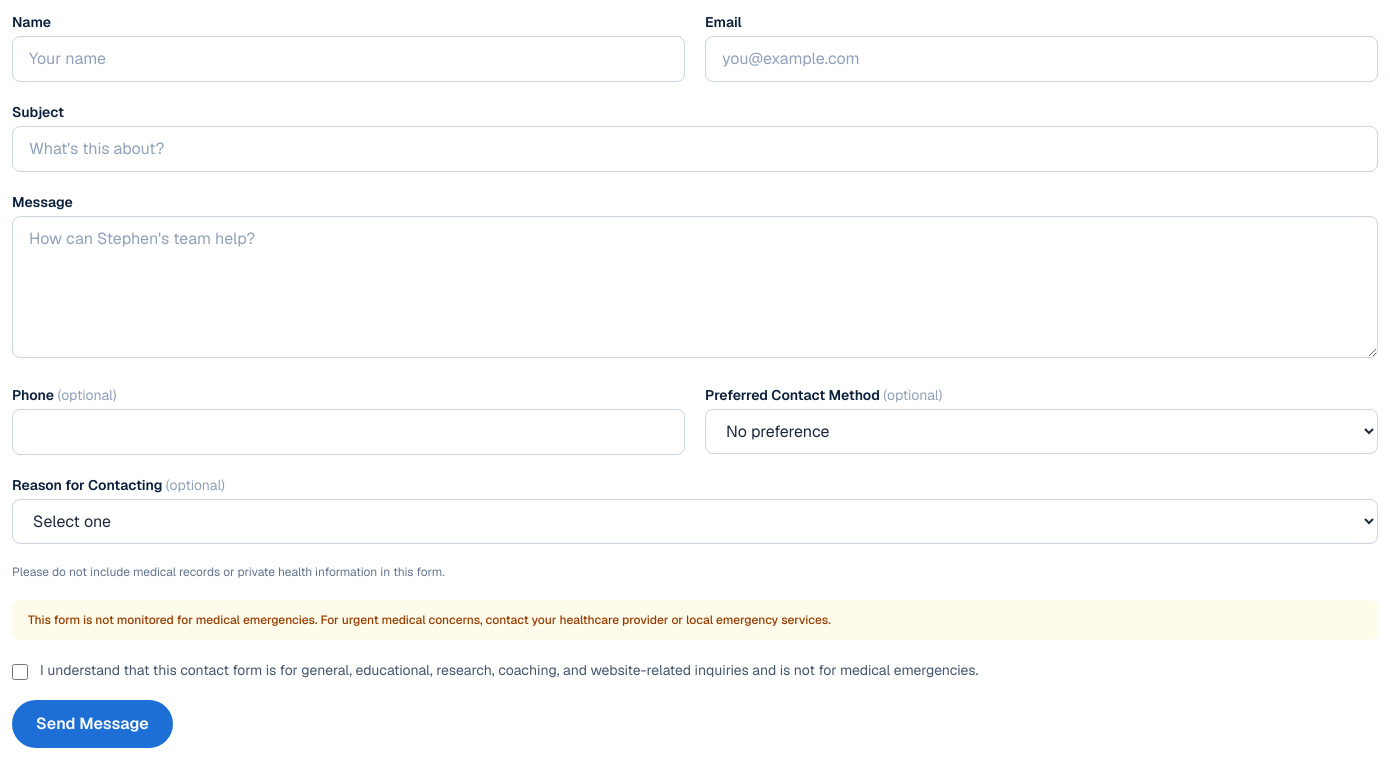
ContactForm › shows an error message and preserves typed data when submission fails
Type "Jane Visitor" into the field labelled "Name".
click(348, 59); type("Jane Visitor")  # box [12,36,685,82]
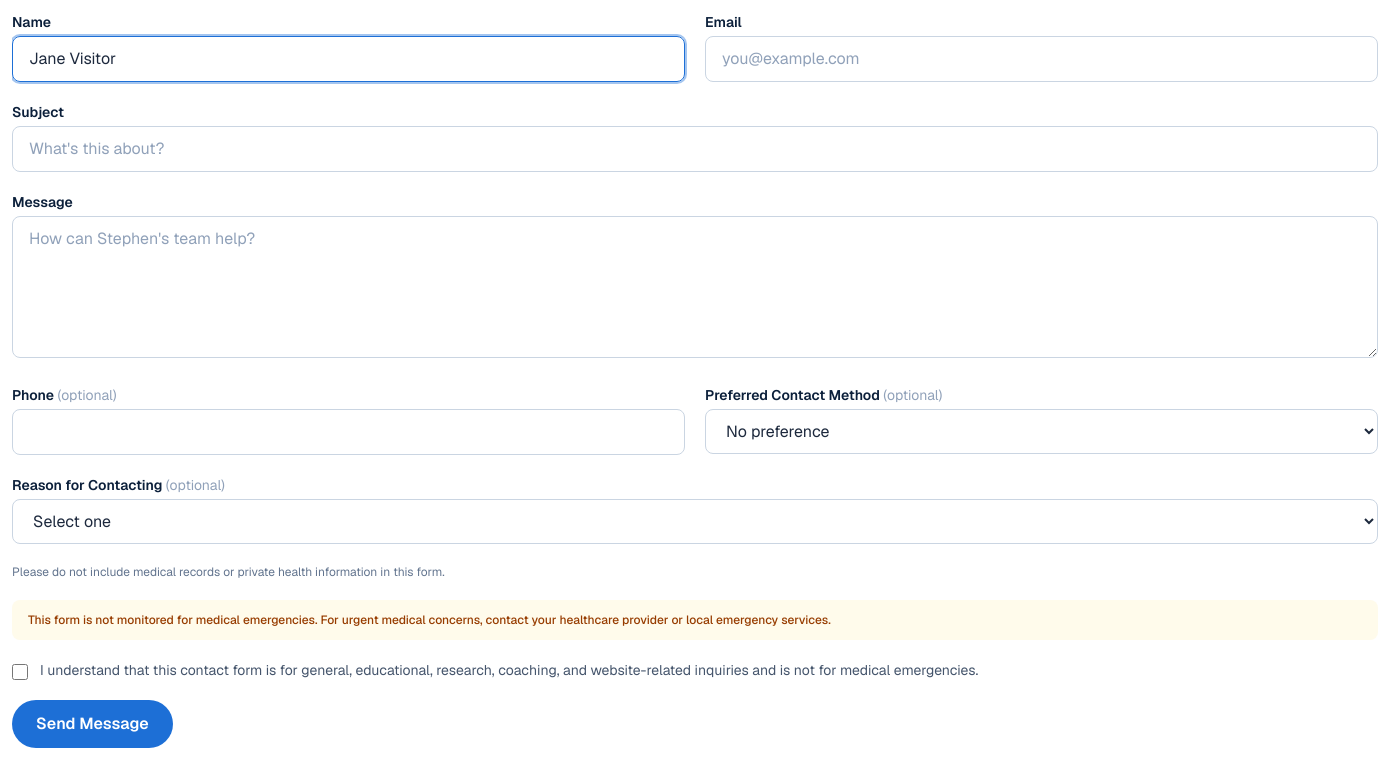
Type "jane@example.com" into the field labelled "Email".
click(1042, 59); type("jane@example.com")  # box [705,36,1378,82]
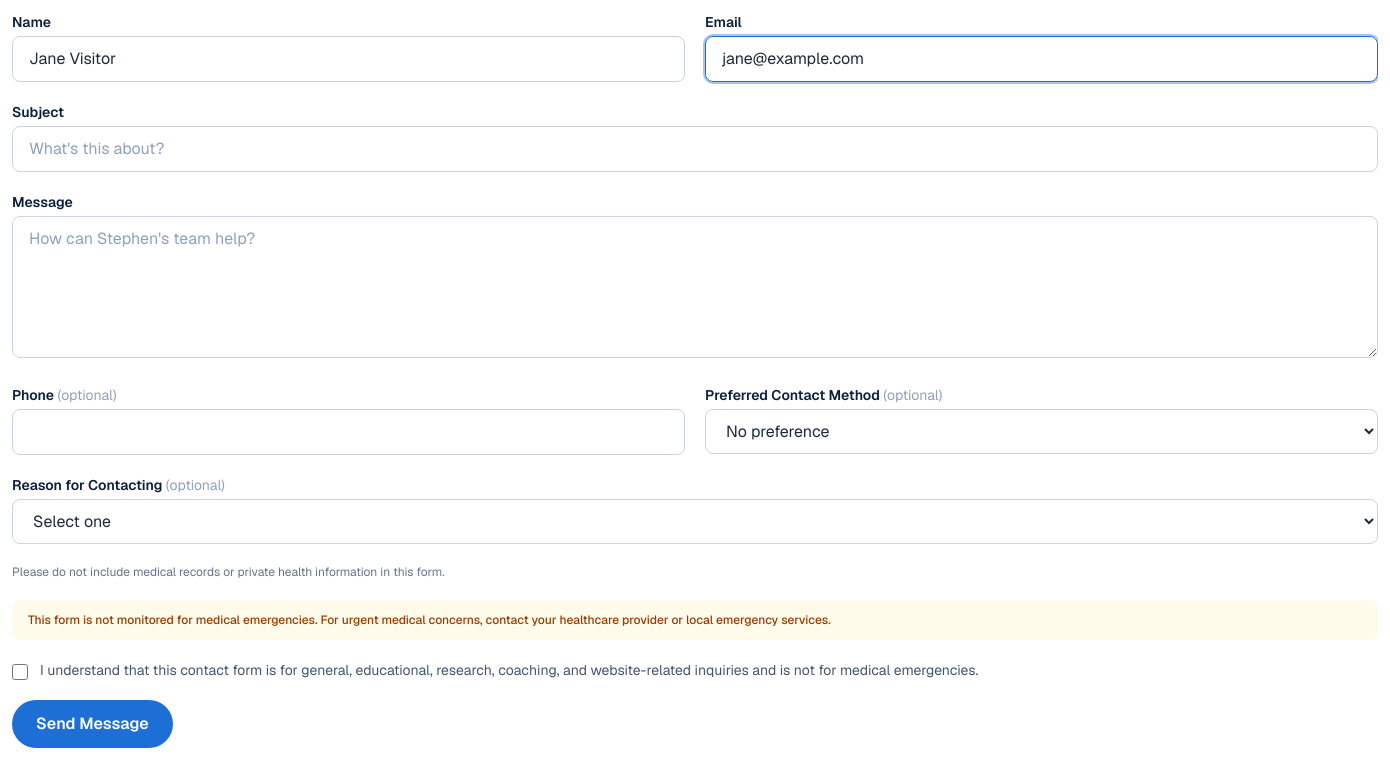
Type "A question about niacin research" into the field labelled "Subject".
click(695, 149); type("A question about niacin research")  # box [12,126,1378,172]
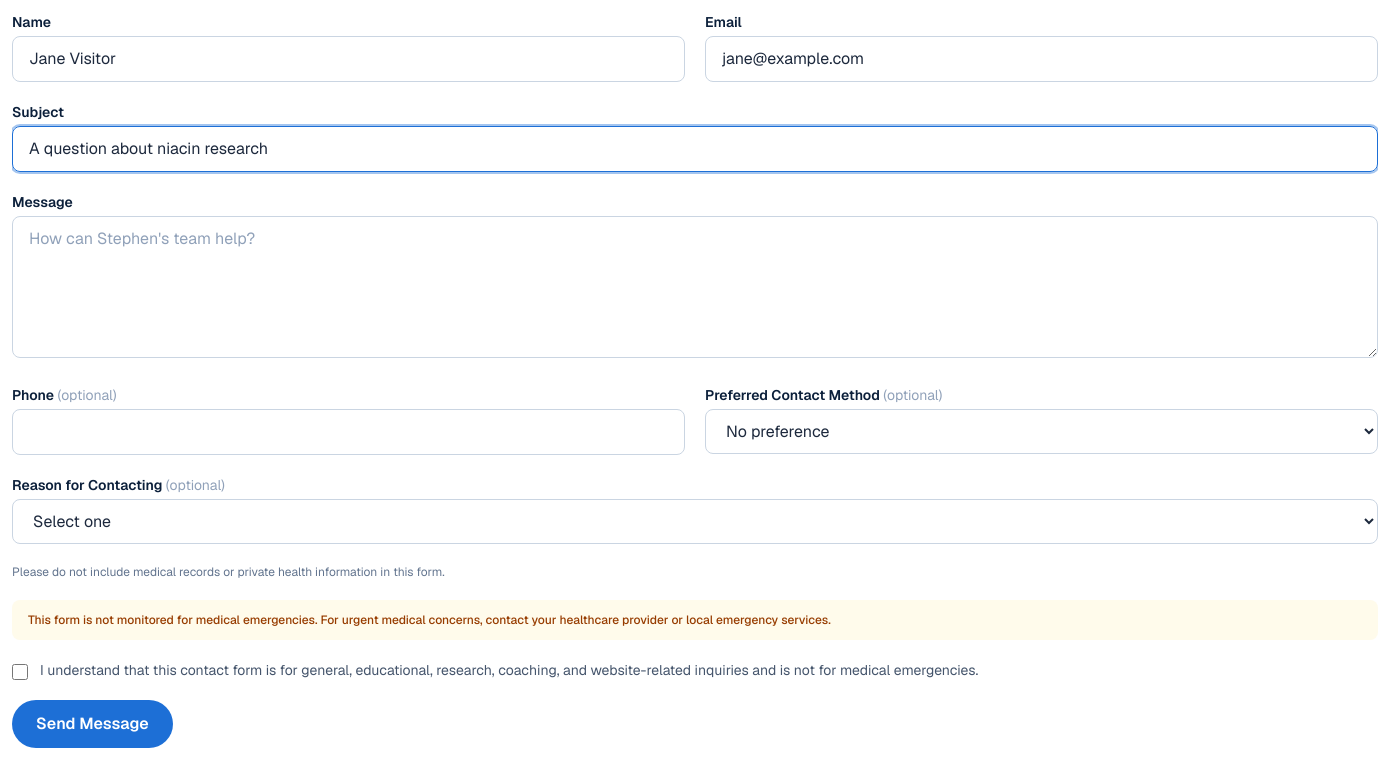
Type "This is a test message." into the text box labelled "Message".
click(695, 287); type("This is a test message.")  # box [12,216,1378,358]
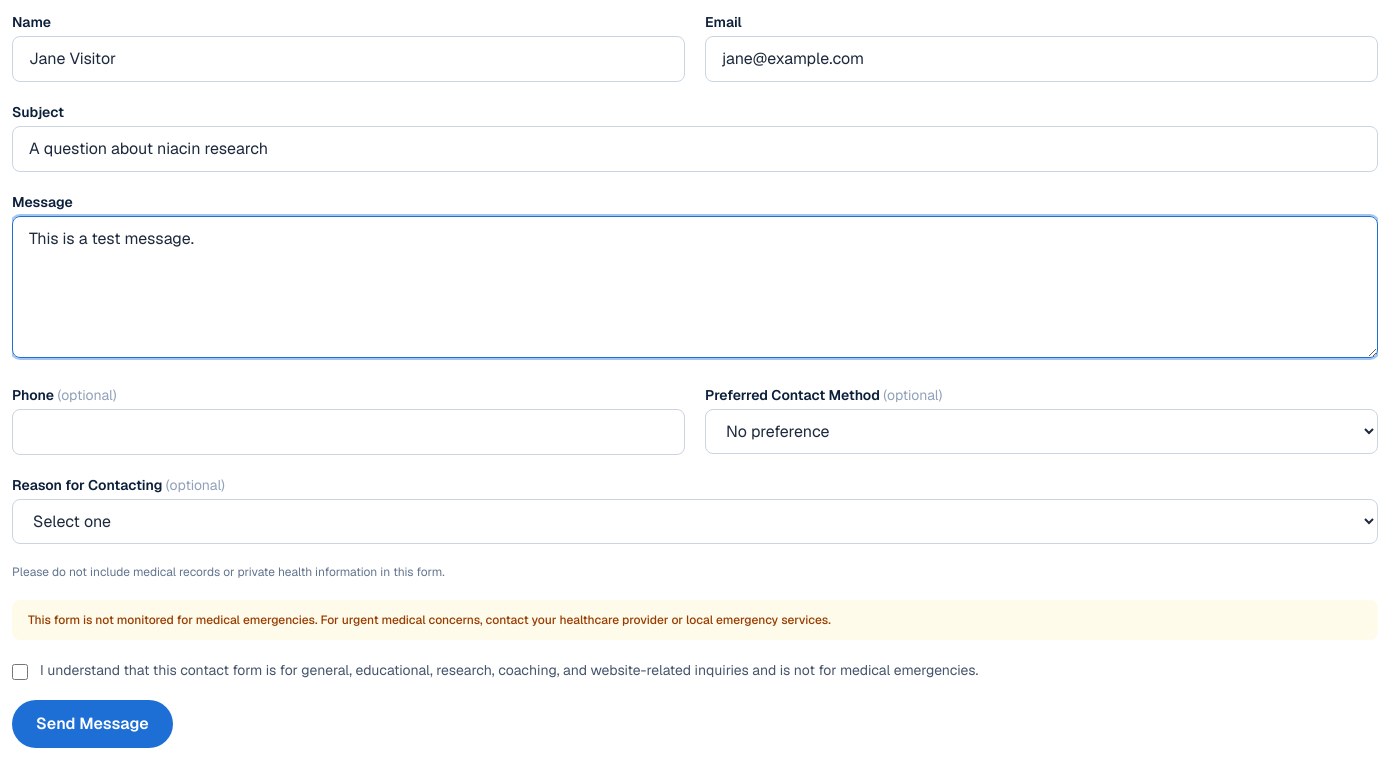
Click the checkbox labelled "I understand that this contact form".
click(20, 672)  # box [12,664,28,680]
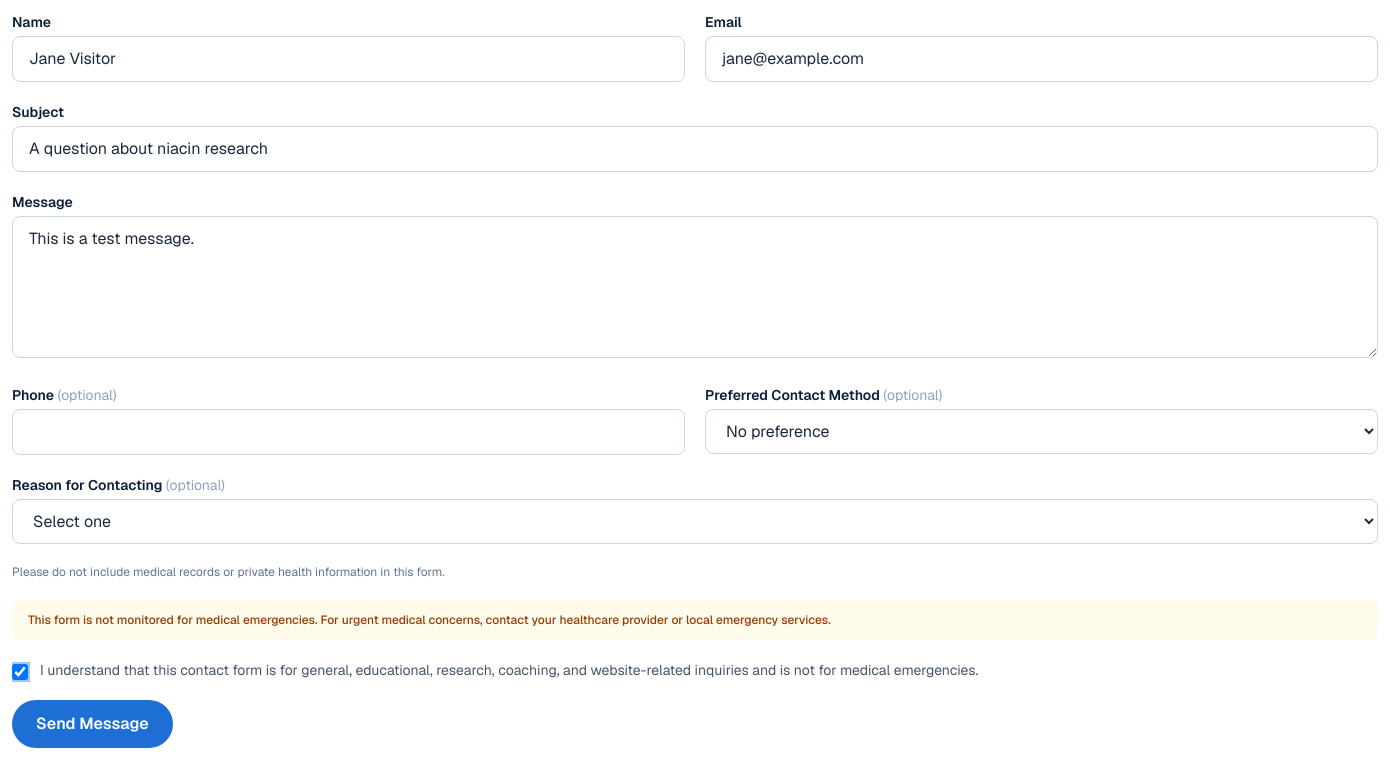
Click the button "Send Message".
click(92, 724)  # box [12,700,173,748]
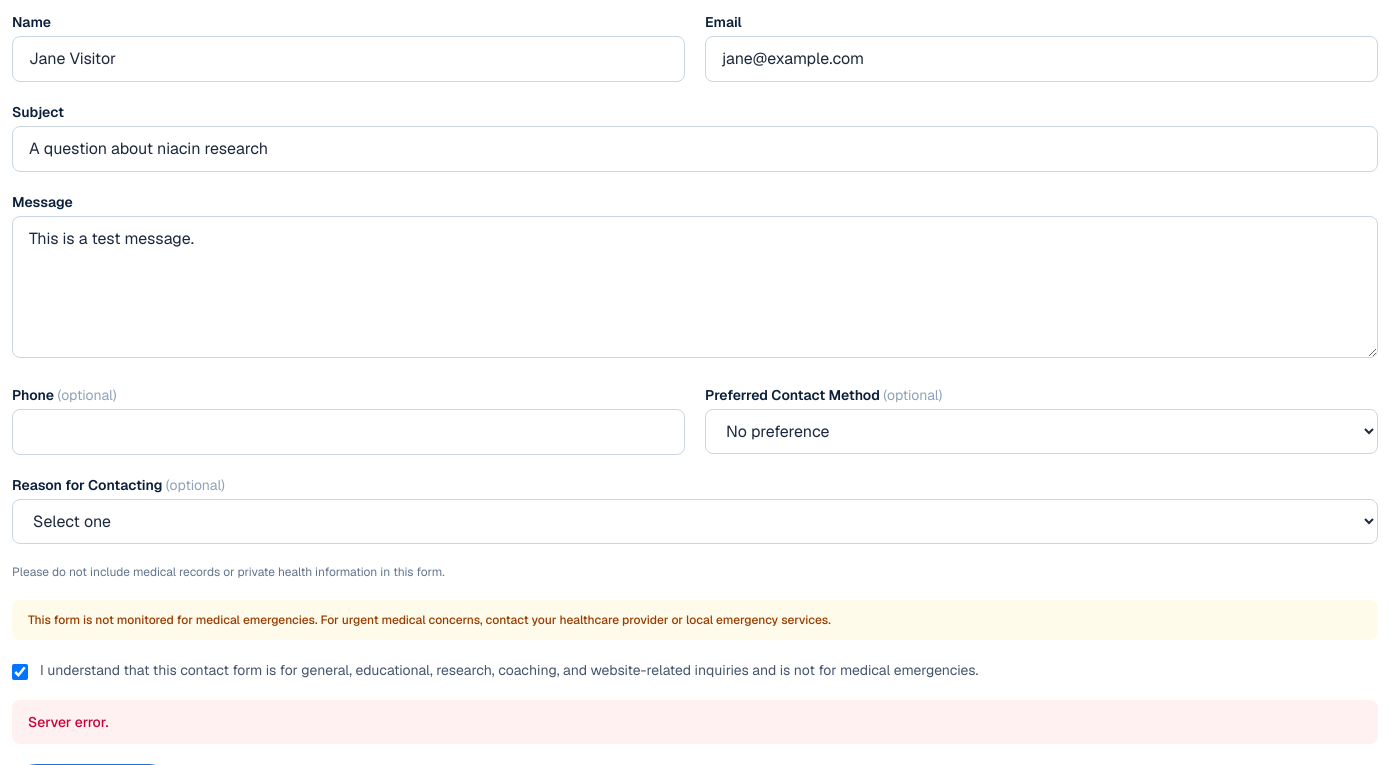
Check: the message reads "Server error.", box [28,713,108,731]
